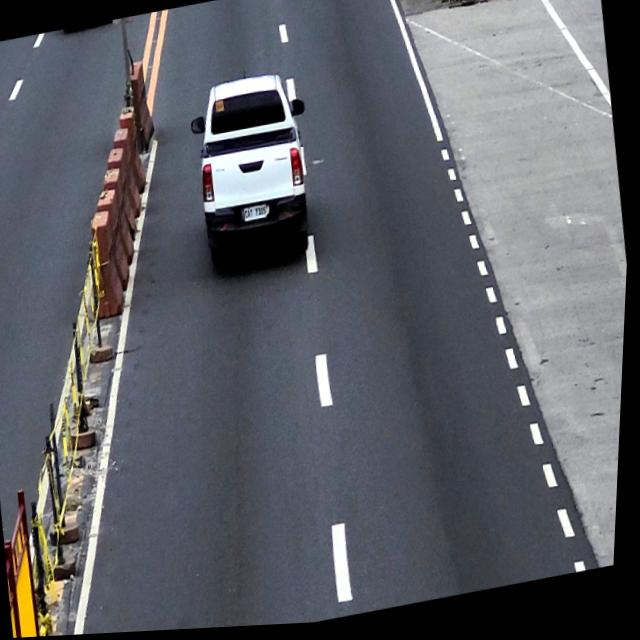Car: (183, 71, 328, 281)
License-Plate: (245, 205, 271, 225)
